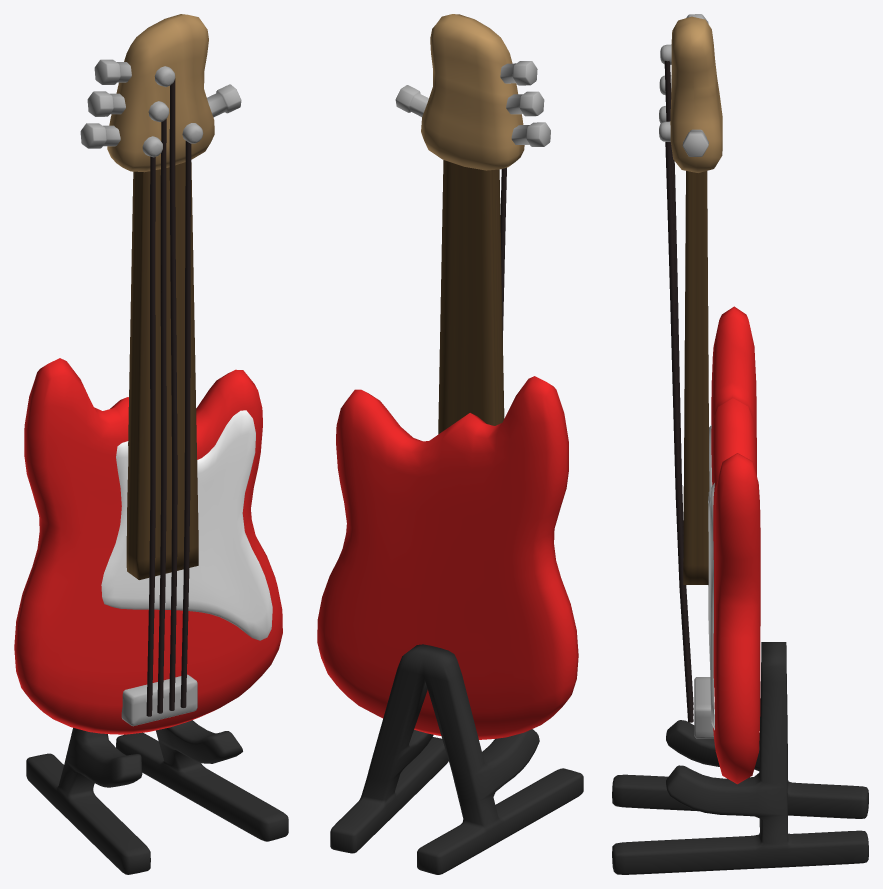
Rendered from bass.glb.
The picture shows the model from 3 angles, left to right: view 1: azimuth 30°, elevation 25°; view 2: azimuth 150°, elevation 25°; view 3: azimuth 270°, elevation 25°; orthographic projection. The views are drawn at different scales.
Parts seen in each view (by area): view 1: bass_body, bass_neck, bass_stand, bass_guard, bass_head, line3, line2, line4, line1, bass_peg, bass_bridge, bass_nut (+1 smaller); view 2: bass_body, bass_stand, bass_neck, bass_head, bass_peg, line1, bass_peg.001; view 3: bass_stand, bass_body, bass_neck, bass_head, line4, bass_guard, line3, bass_bridge, line2, bass_nut, bass_peg.001.
Boxes of the visible parts, x1,y1,x2,y2 form: bass_body: [14, 358, 282, 734]; bass_neck: [126, 162, 198, 579]; bass_stand: [26, 720, 288, 874]; bass_guard: [101, 410, 272, 640]; bass_head: [107, 14, 214, 172]; line3: [169, 78, 177, 710]; line2: [157, 119, 166, 713]; line4: [180, 141, 191, 707]; line1: [146, 156, 155, 716]; bass_peg: [80, 59, 131, 148]; bass_bridge: [121, 674, 197, 726]; bass_nut: [142, 66, 203, 157]; bass_body: [317, 376, 578, 739]; bass_stand: [330, 644, 583, 874]; bass_neck: [438, 160, 504, 434]; bass_head: [421, 14, 524, 170]; bass_peg: [500, 61, 550, 146]; line1: [500, 167, 506, 337]; bass_peg.001: [395, 85, 428, 116]; bass_stand: [612, 642, 868, 874]; bass_body: [711, 306, 760, 784]; bass_neck: [683, 171, 709, 584]; bass_head: [670, 16, 722, 172]; line4: [665, 142, 693, 722]; bass_guard: [708, 425, 714, 730]; line3: [664, 61, 693, 715]; bass_bridge: [694, 677, 713, 738]; line2: [671, 92, 693, 709]; bass_nut: [659, 44, 671, 141]; bass_peg.001: [682, 129, 708, 156].
Size of the model in its own units: 1.47 by 4.31 by 1.22.
9 materials, 8 textured.
